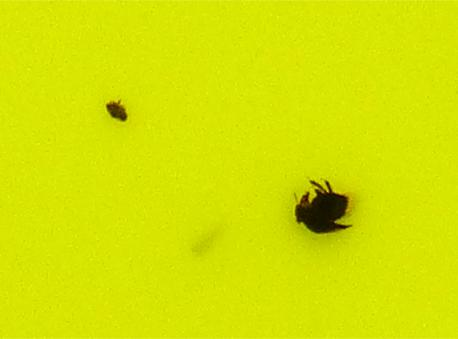Coleoptera: (289, 178, 358, 239), (100, 100, 132, 125)
